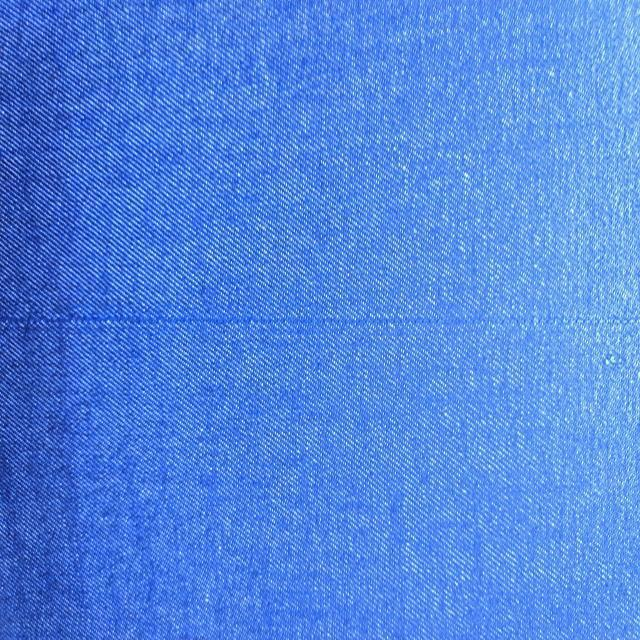Line: (0, 307, 640, 326)
